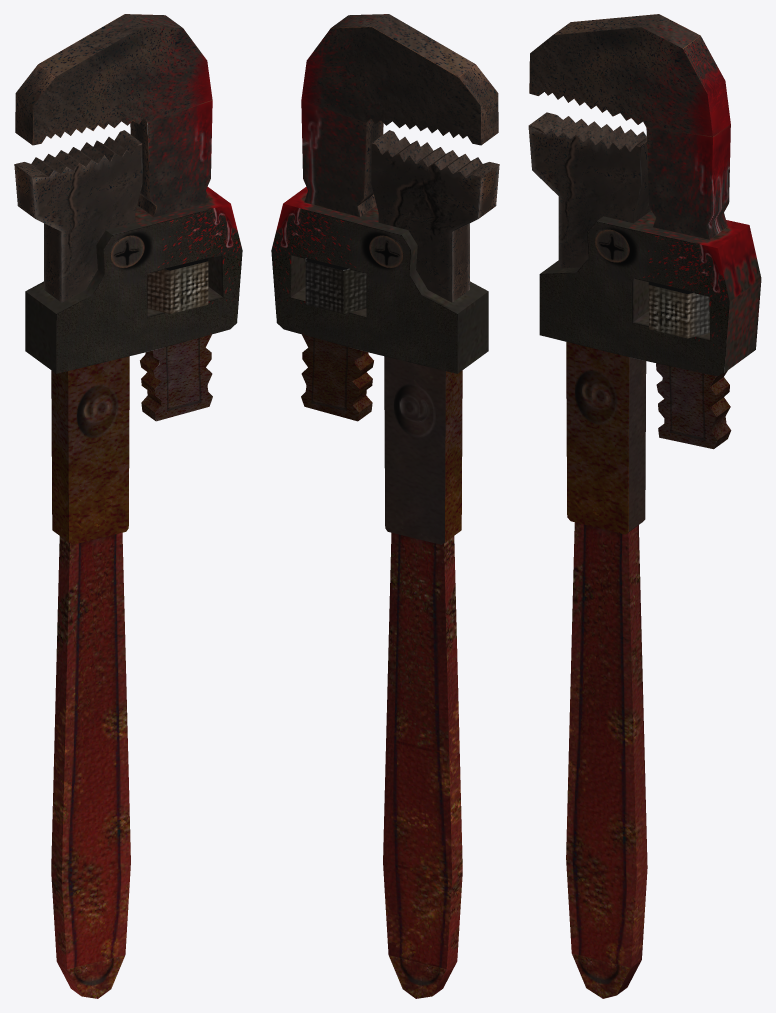
The model's file is wrench_weapon.glb.
The picture shows the model from 3 angles, left to right: view 1: azimuth 30°, elevation 25°; view 2: azimuth 150°, elevation 25°; view 3: azimuth 330°, elevation 25°; orthographic projection. The views are drawn at different scales.
Visible parts, largest first — view 1: polySurface1; view 2: polySurface1; view 3: polySurface1.
Boxes of the visible parts, x1,y1,x2,y2 form: polySurface1: [14, 14, 242, 998]; polySurface1: [271, 14, 499, 998]; polySurface1: [528, 14, 761, 998].
Size of the model in its own units: 0.2819 by 1.28 by 0.0909.
1 material, 1 textured.
